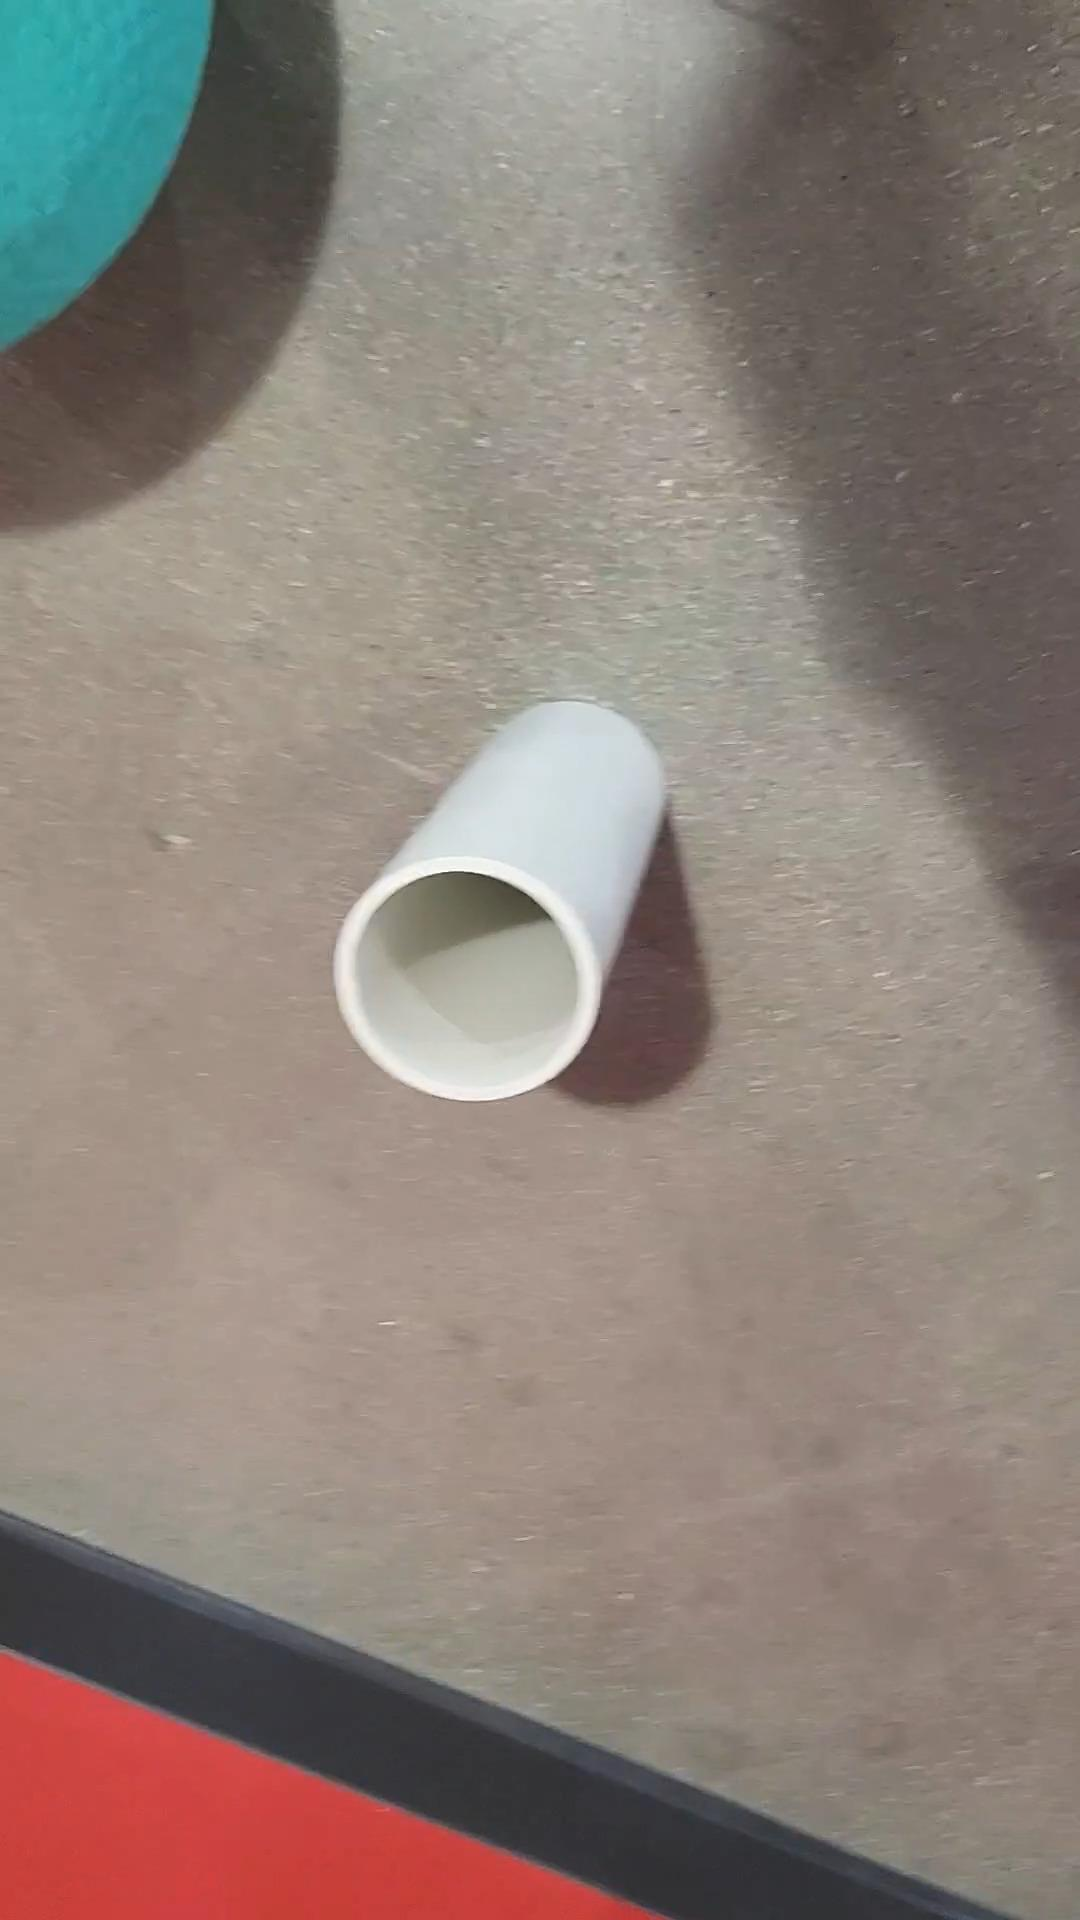algae: (0, 0, 223, 356)
coral: (340, 691, 670, 1100)
